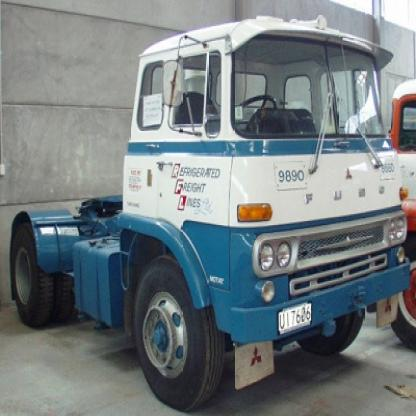truck: (8, 15, 411, 408)
